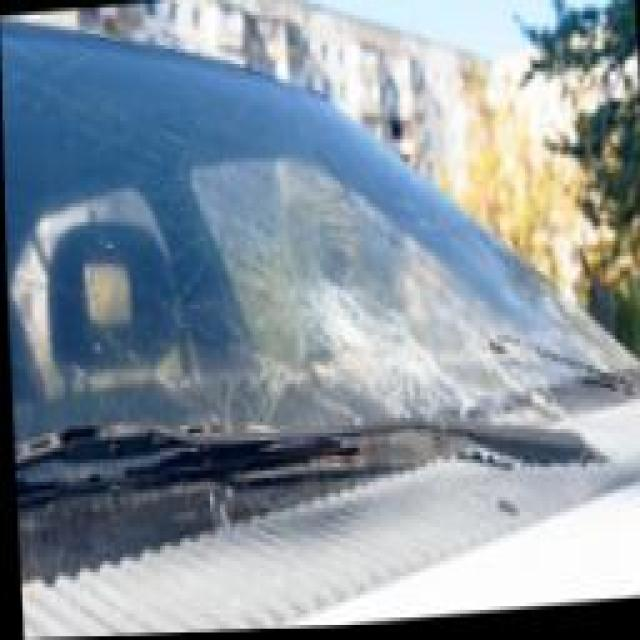Windshield: (0, 21, 640, 583)
